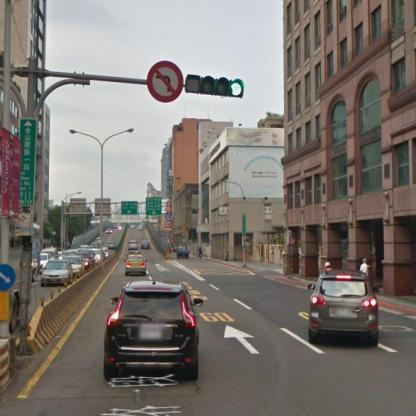Green Light: (187, 73, 248, 96)
